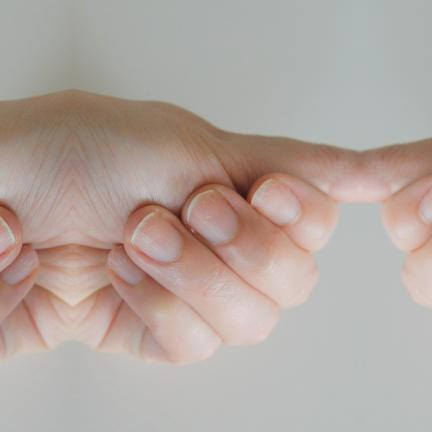Nail: (185, 190, 237, 244), (129, 211, 183, 262), (250, 178, 301, 225), (107, 246, 145, 285), (0, 246, 37, 285), (0, 217, 15, 254), (419, 188, 432, 225)
